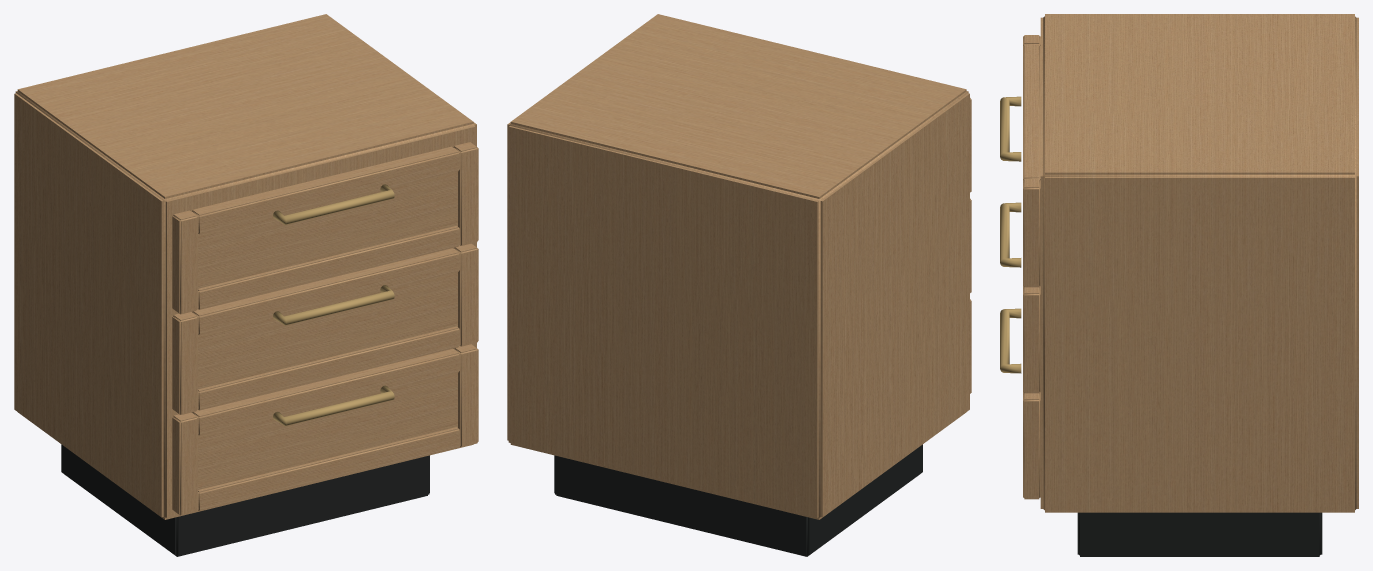
Rendered from scandinavian.bedside.gltf.
3 views of the same model, side by side, from view 1: azimuth 30°, elevation 25°; view 2: azimuth 150°, elevation 25°; view 3: azimuth 270°, elevation 25° (orthographic). The views are drawn at different scales.
Visible parts, largest first — view 1: scandinavian.bedside.carcass; view 2: scandinavian.bedside.carcass; view 3: scandinavian.bedside.carcass.
Boxes of the visible parts, x1,y1,x2,y2 form: scandinavian.bedside.carcass: (14, 14, 478, 556); scandinavian.bedside.carcass: (507, 14, 971, 556); scandinavian.bedside.carcass: (1000, 14, 1358, 556).
Bounding box in the file's own units: 0.47 × 0.54 × 0.44.
Materials: 3 (1 with a texture image).
